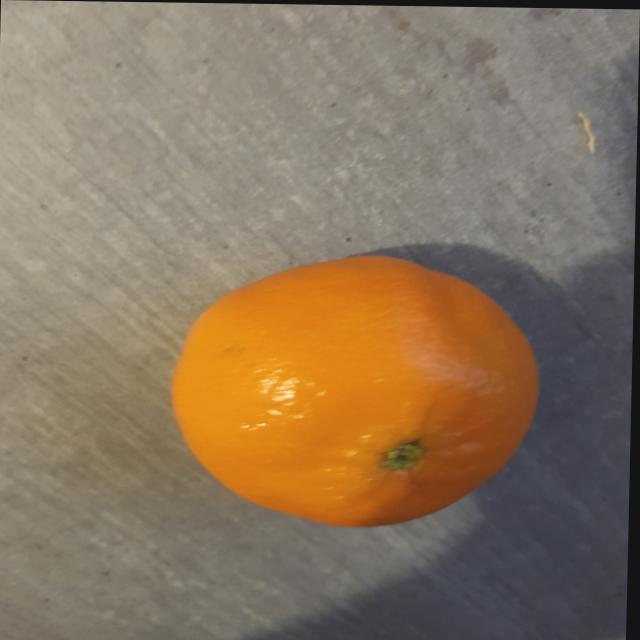Orange: (170, 252, 540, 526)
